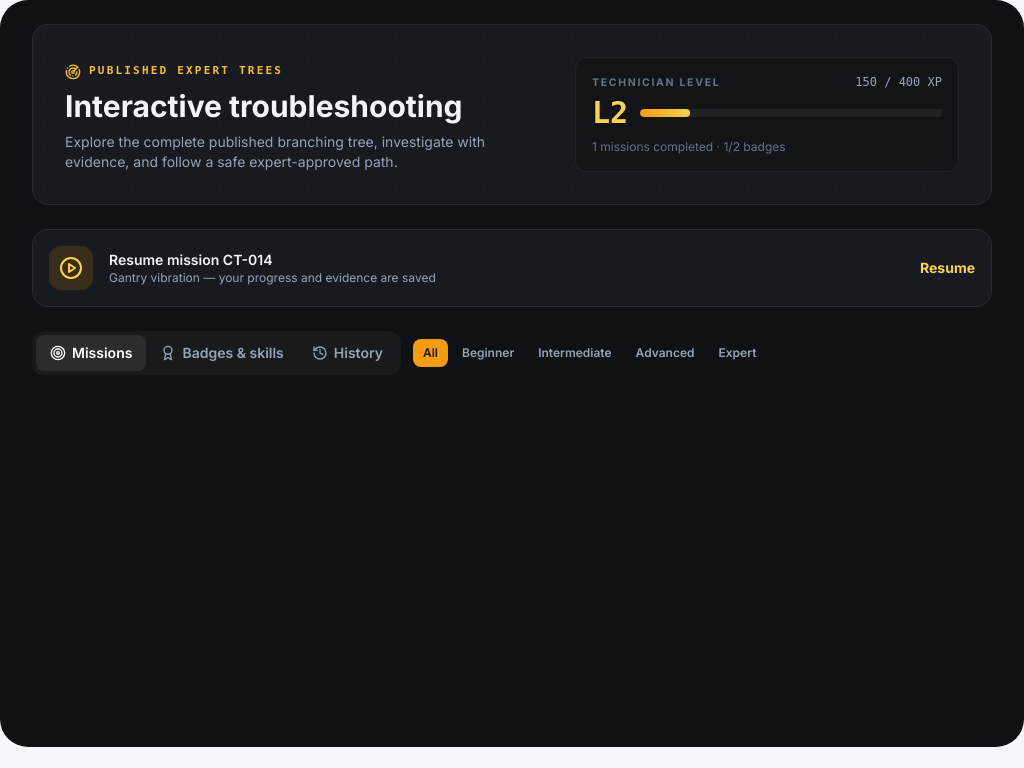
Test case: Mission Control › lists missions with rewards, locks and resume, plus badges
This screenshot has width=1024, height=768.
Expected: the text "L2" is shown, [592,95,628,131]
Click the tab "Badges & skills".
click(222, 353)  # box [146,335,298,371]
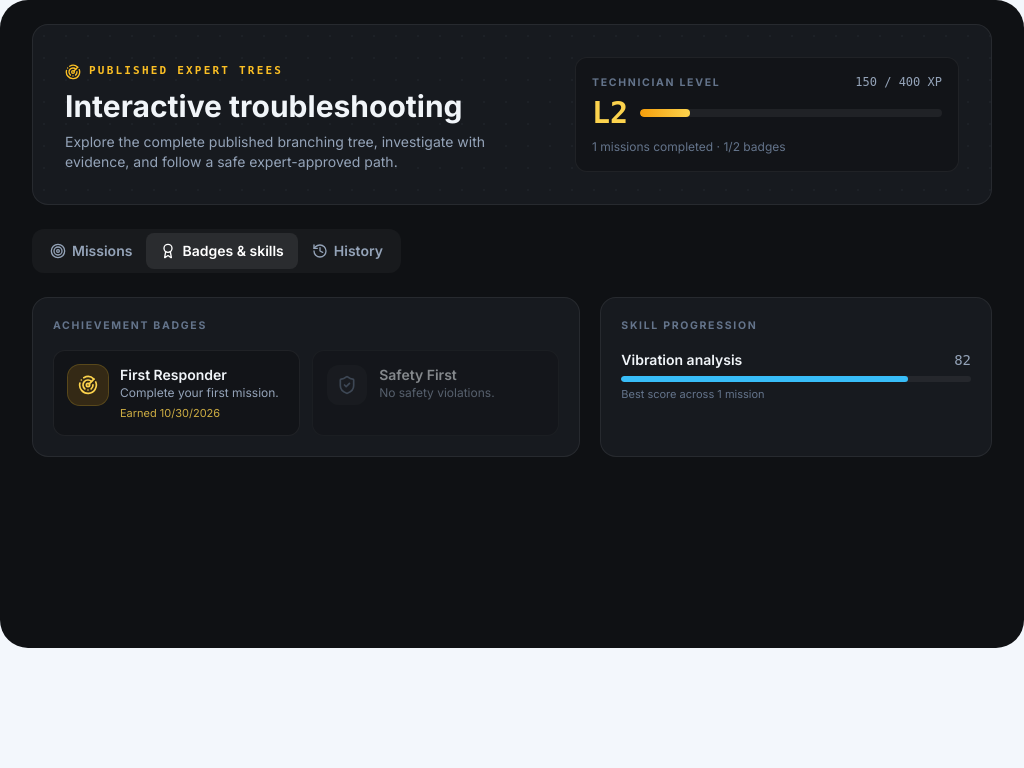
Expected: the text "First Responder" is shown, [120,366,227,382]
Expected: the text "Vibration analysis" is shown, [621,350,742,370]
